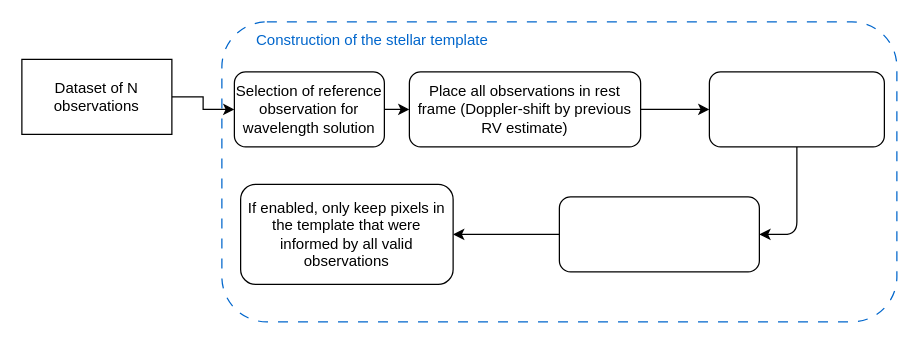
Some shapes in this 919 by 344 pixel diagram are drawn without their labels. The centre of each missing label's shape, as x and y in pixels:
"Interpolate all observations to the reference wavelength solution" belongs at point (796, 109).
"Stack observations through their mean value, propagating flux uncertainties" belongs at point (658, 234).
